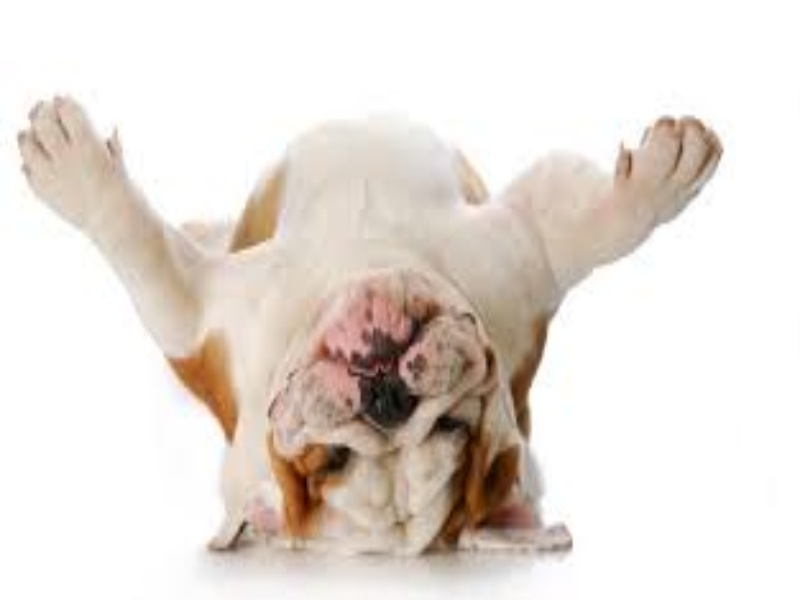dog: (14, 82, 735, 572)
